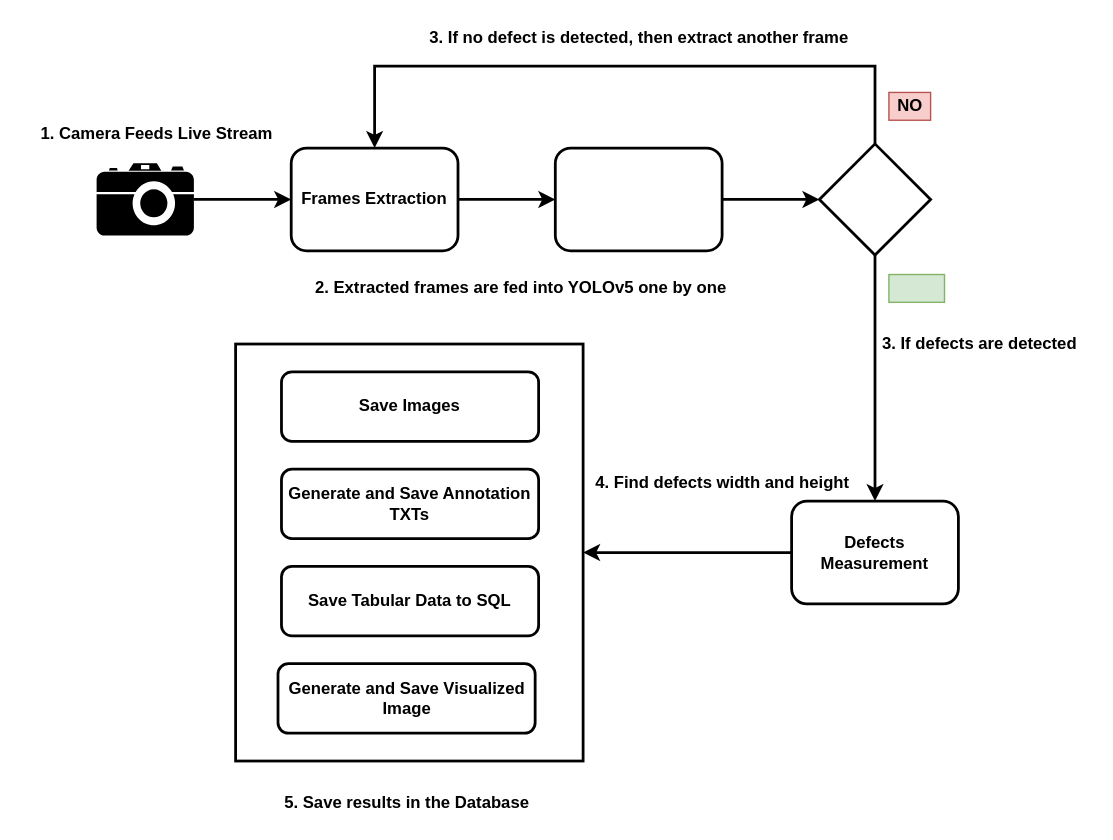
Image size: 1113x840. Some labels were removed from this diagram. Here are the shapes that lost their labels. From the top down, the box of each, then its label:
(96, 163, 193, 235): Live Camera
(553, 146, 723, 252): YOLOv5 detection model
(817, 142, 931, 256): decision
(888, 273, 945, 302): YES
